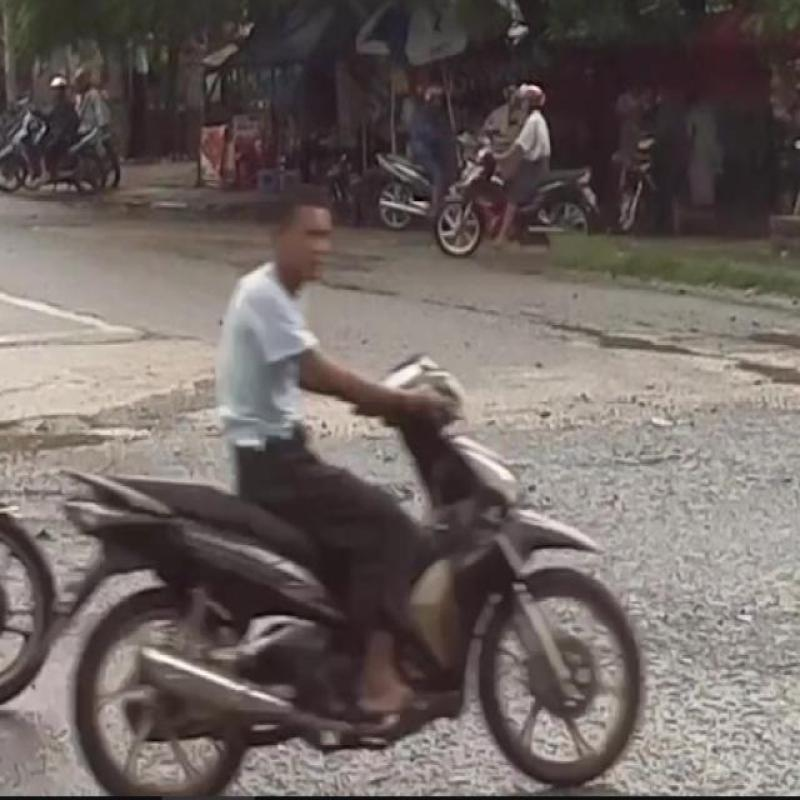nohelmet: (242, 160, 377, 321)
